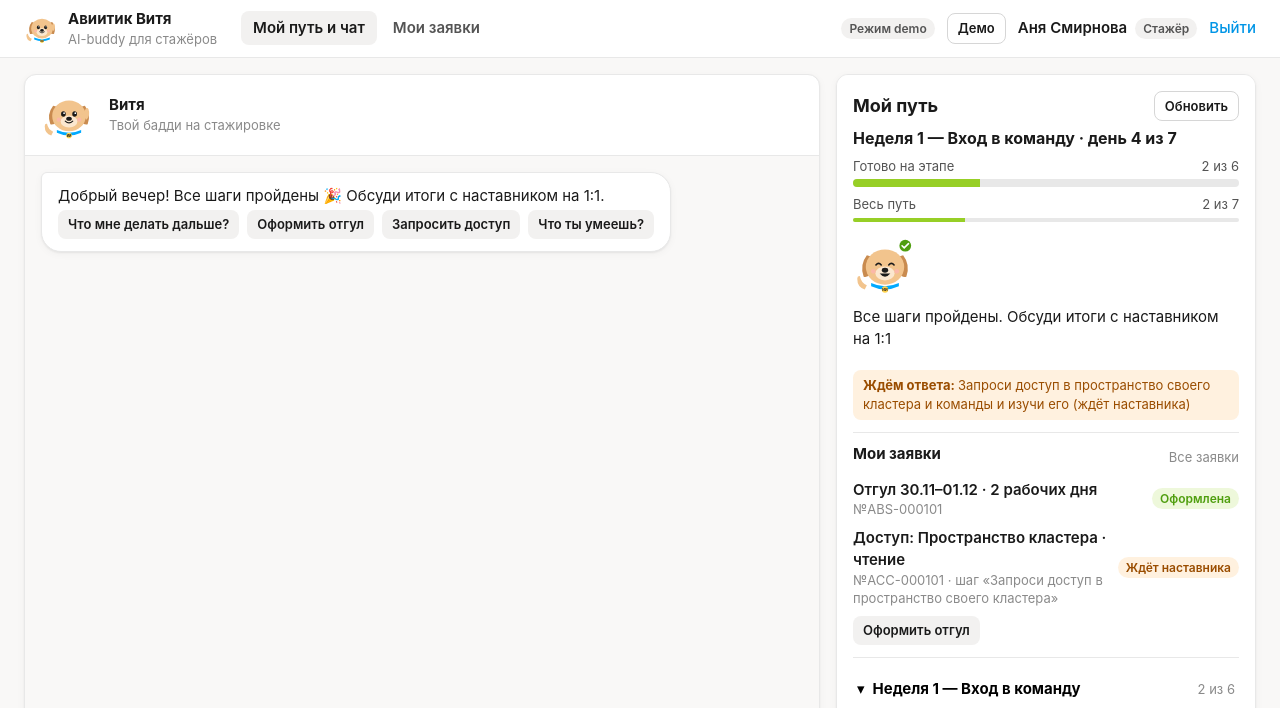
chat (wave 4) › empty chat greets with starter buttons that send intent payloads
Check: the element with test id "greeting" is shown, box [41,172,671,252]
Check: the text "Все шаги пройдены" is shown, box [58,186,604,205]
Click the button "Что мне делать дальше?" at coordinates (149, 225), box [58,210,239,239]
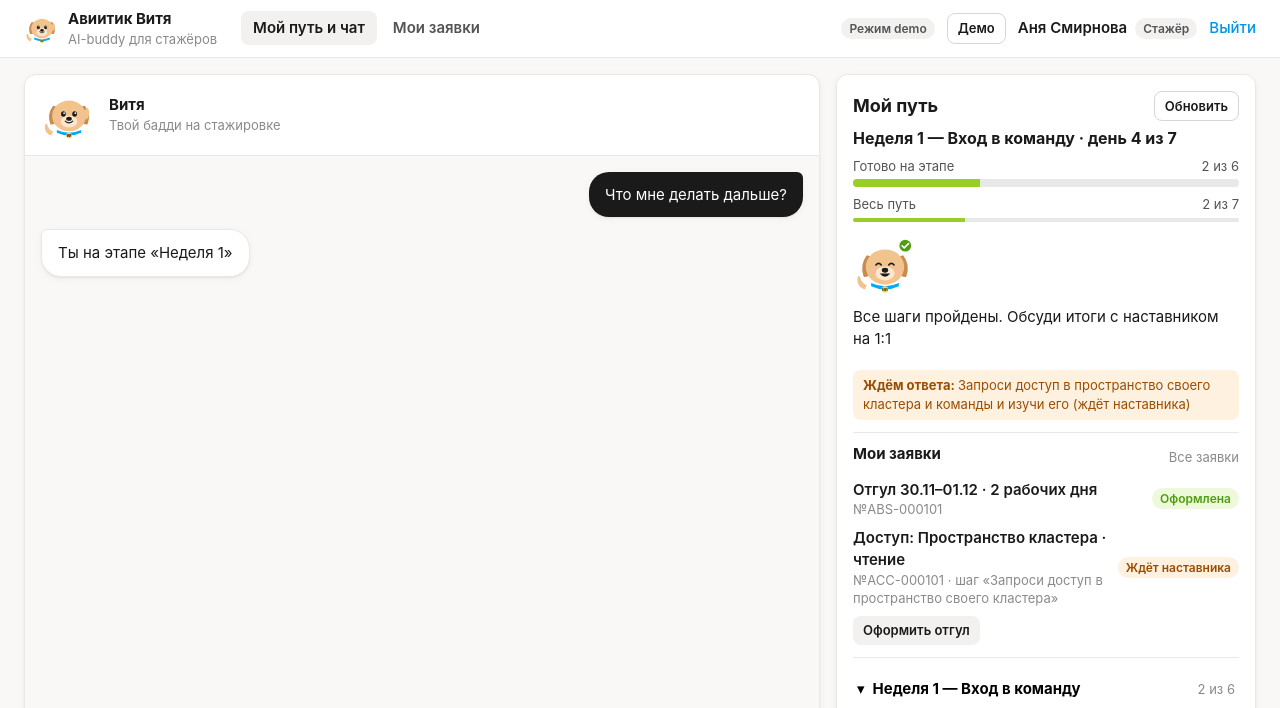
Check: the text "Что мне делать дальше?" is shown, box [589,172,803,217]
Check: the text "Ты на этапе «Неделя 1»" is shown, box [58,243,232,262]
